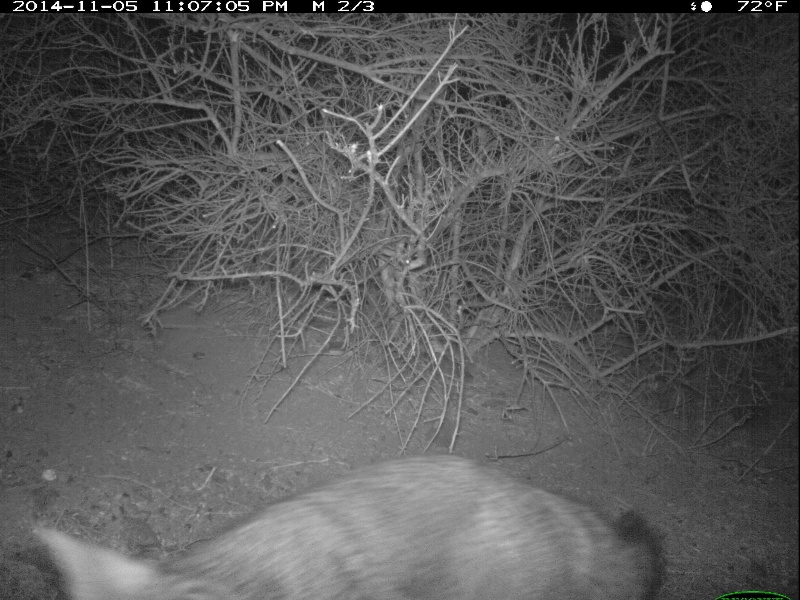coyote: (27, 455, 672, 600)
